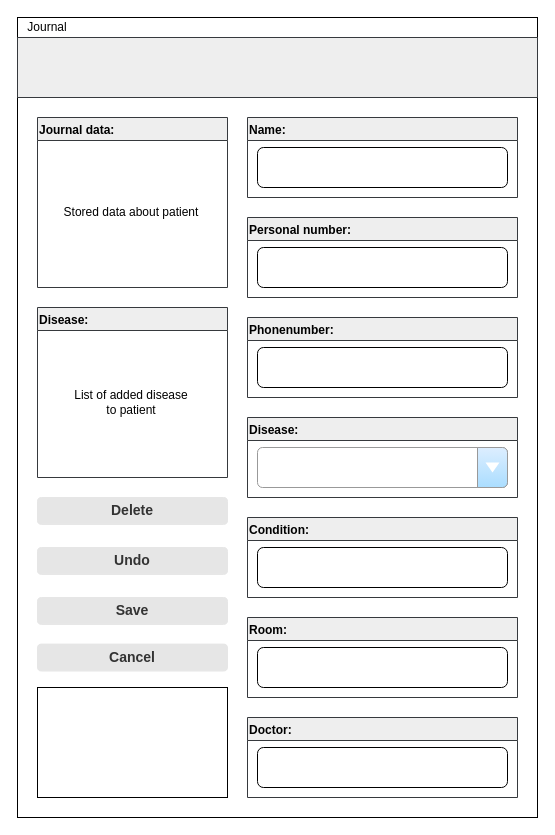
The diagram is 555 pixels wide and 835 high, and some of its shapes have lost their labels. The shapes that lost their labels are listed below. From the top down, each one's centre as x and y in pixels, then its label:
At (277,67): "User :".
At (382,467): "Option 1".
At (132,742): "Write a comment...".
